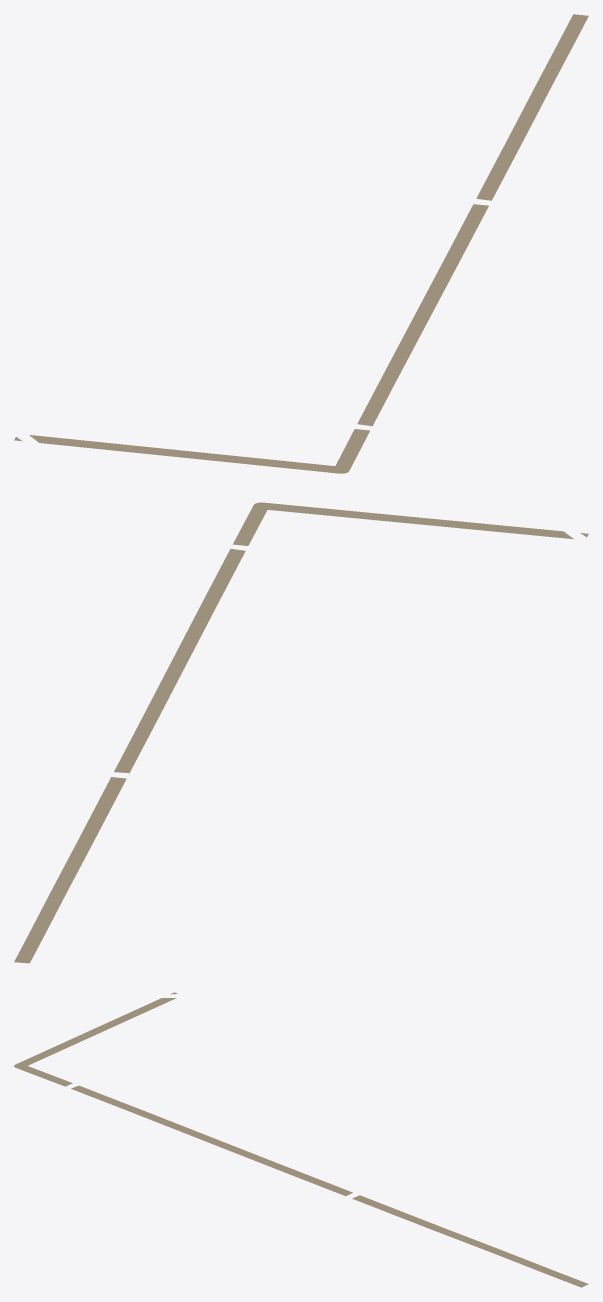
File: farm_3_6_track.glb
The picture shows the model from 3 angles, top to bottom: view 1: azimuth 30°, elevation 25°; view 2: azimuth 210°, elevation 25°; view 3: azimuth 270°, elevation 25°; orthographic projection. The views are drawn at different scales.
Parts seen in each view (by area): view 1: geometry_0; view 2: geometry_0; view 3: geometry_0.
Part boxes in pixels (left/top/right/bottom): geometry_0: left=14, top=14, right=588, bottom=473; geometry_0: left=14, top=502, right=588, bottom=963; geometry_0: left=14, top=992, right=588, bottom=1287.
Bounding box in the file's own units: 204 × 0.46 × 169.
